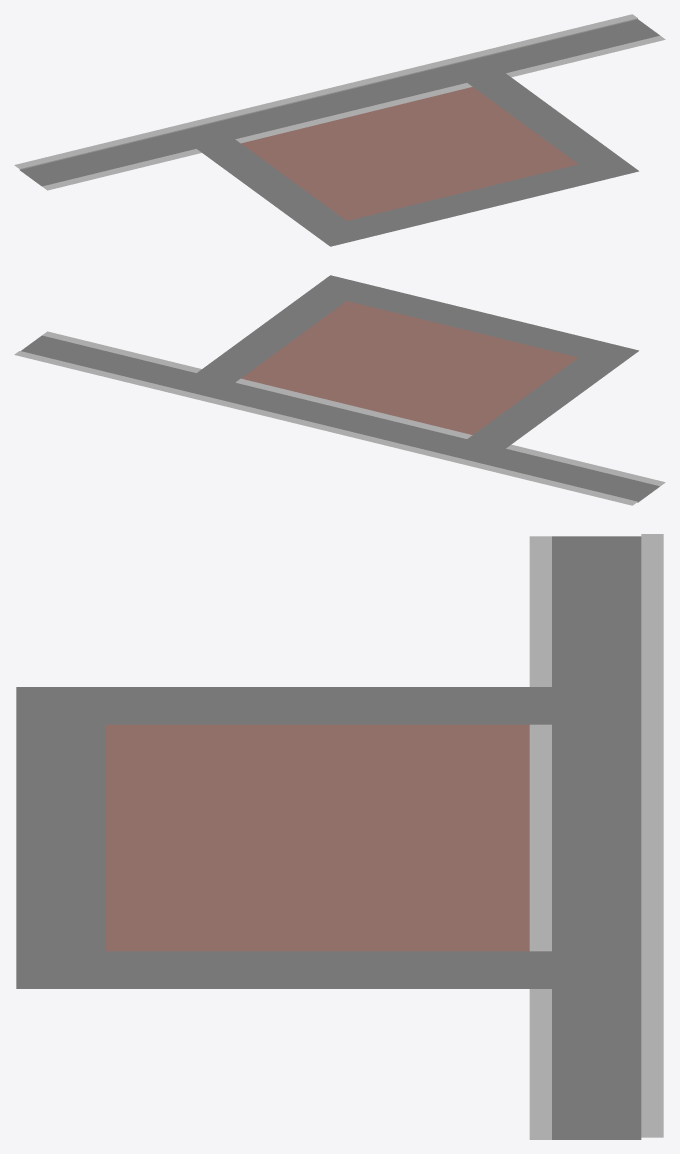
The model's file is chunk_library.glb.
3 views of the same model, one above another, from view 1: azimuth 30°, elevation 25°; view 2: azimuth 150°, elevation 25°; view 3: azimuth 270°, elevation 25° (orthographic). The views are drawn at different scales.
Visible parts, largest first — view 1: Square, Plane; view 2: Square, Plane; view 3: Square, Plane.
Boxes of the visible parts, <box> form: Square: <box>42,35,665,246</box>; Plane: <box>14,14,659,186</box>; Square: <box>42,275,665,486</box>; Plane: <box>14,335,659,505</box>; Square: <box>16,536,551,1139</box>; Plane: <box>552,534,663,1139</box>.
Bounding box in the file's own units: 64 × 0.1 × 29.
